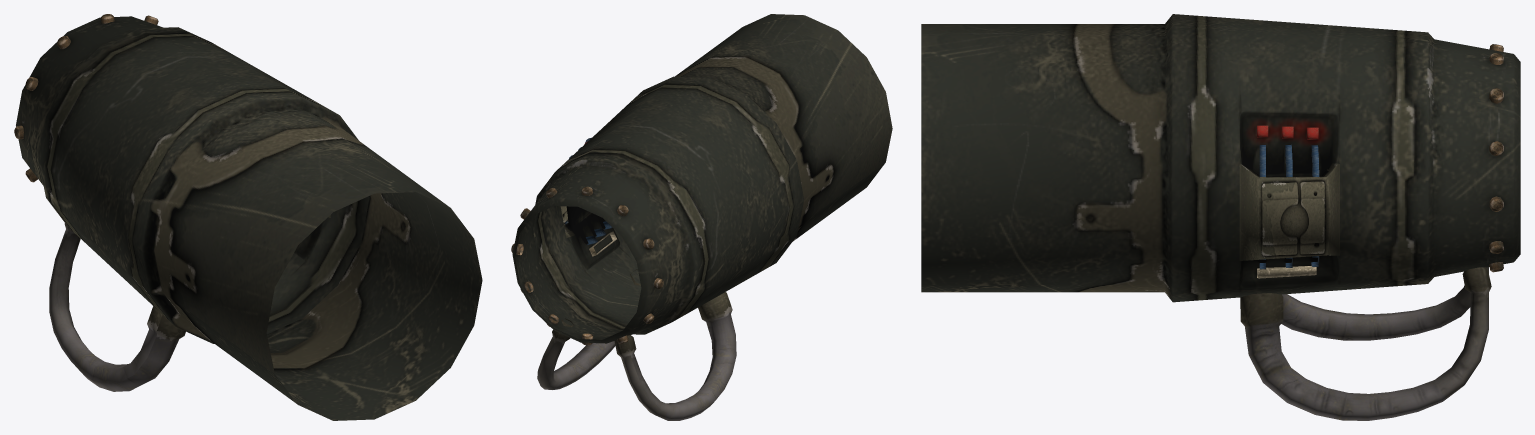
File: getling_base_01.obj
The picture shows the model from 3 angles, left to right: view 1: azimuth 30°, elevation 25°; view 2: azimuth 150°, elevation 25°; view 3: azimuth 270°, elevation 25°; orthographic projection. The views are drawn at different scales.
Parts seen in each view (by area): view 1: gatling_base; view 2: gatling_base; view 3: gatling_base.
Part boxes in pixels (x1=…): gatling_base: x1=14, y1=14, x2=482, y2=420; gatling_base: x1=511, y1=14, x2=892, y2=420; gatling_base: x1=921, y1=14, x2=1520, y2=420.
Bounding box in the file's own units: 9.9 × 13.07 × 20.19.
1 material, 1 textured.
